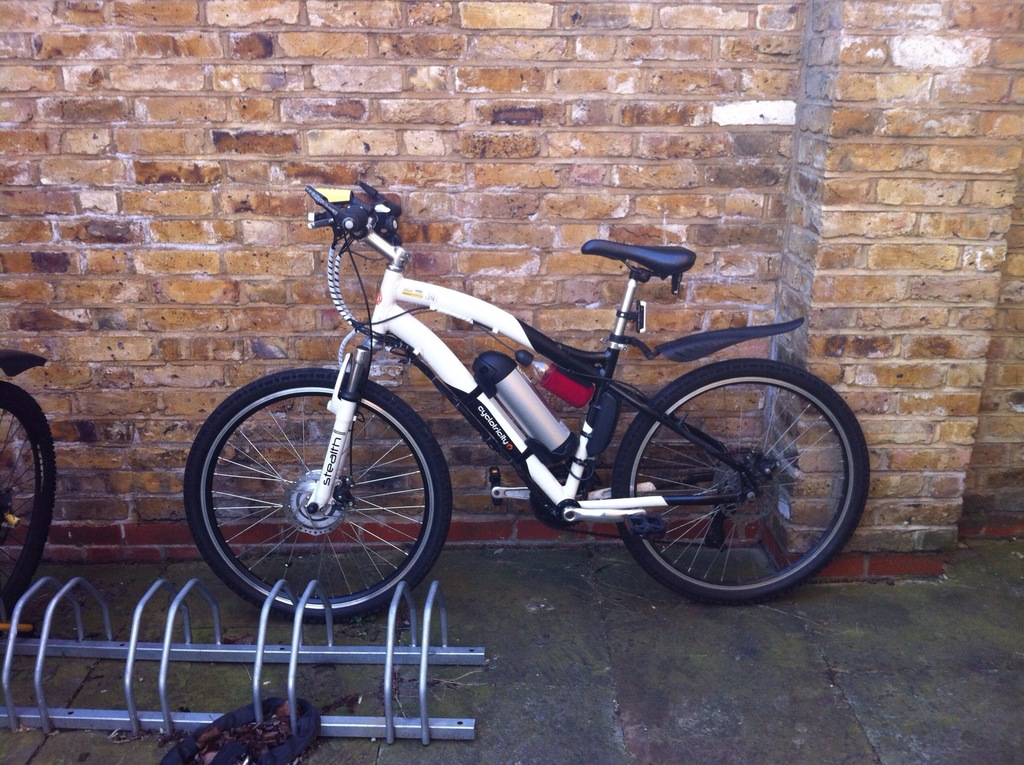Bike: (186, 243, 875, 638)
